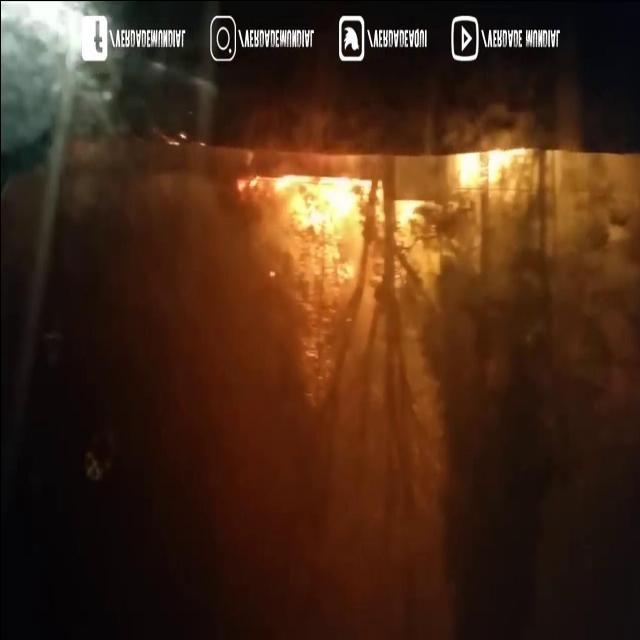Fire: (232, 172, 384, 308), (452, 150, 528, 196), (393, 200, 433, 258)
